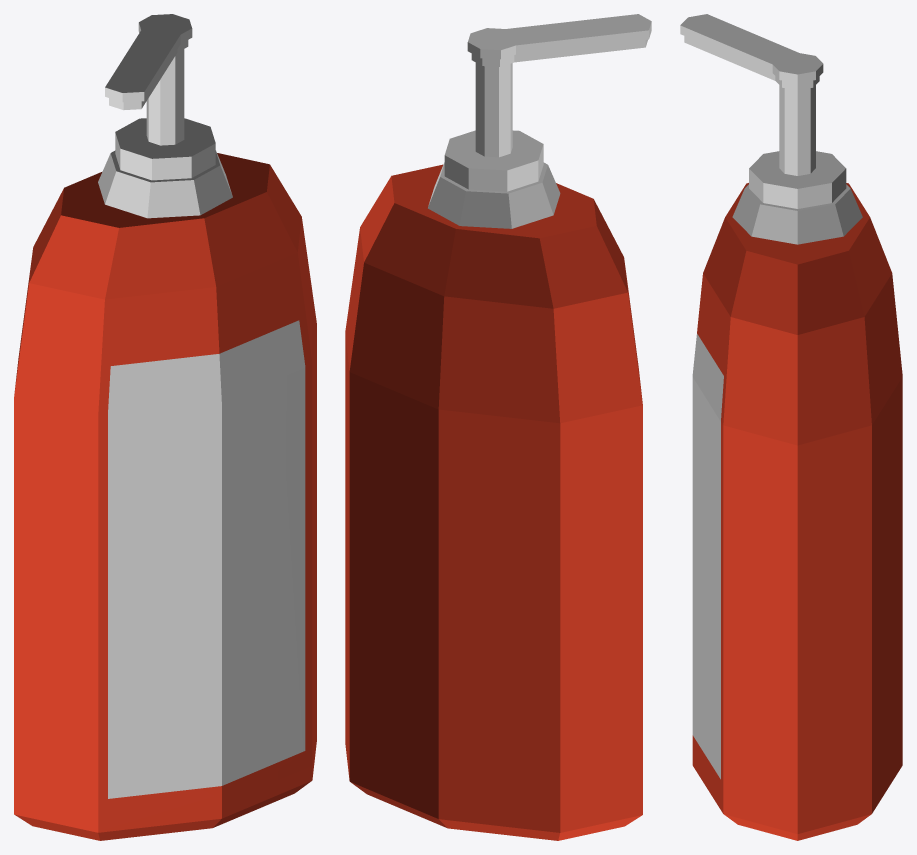
Rendered from Handwasher.fbx.
3 views of the same model, side by side, from view 1: azimuth 30°, elevation 25°; view 2: azimuth 150°, elevation 25°; view 3: azimuth 270°, elevation 25° (orthographic). The views are drawn at different scales.
Visible parts, largest first — view 1: Handwasher; view 2: Handwasher; view 3: Handwasher.
Boxes of the visible parts, x1=… form: Handwasher: x1=14, y1=14, x2=316, y2=840; Handwasher: x1=345, y1=14, x2=651, y2=840; Handwasher: x1=680, y1=14, x2=902, y2=840.
Size of the model in its own units: 0.0897 by 0.3188 by 0.1315.
